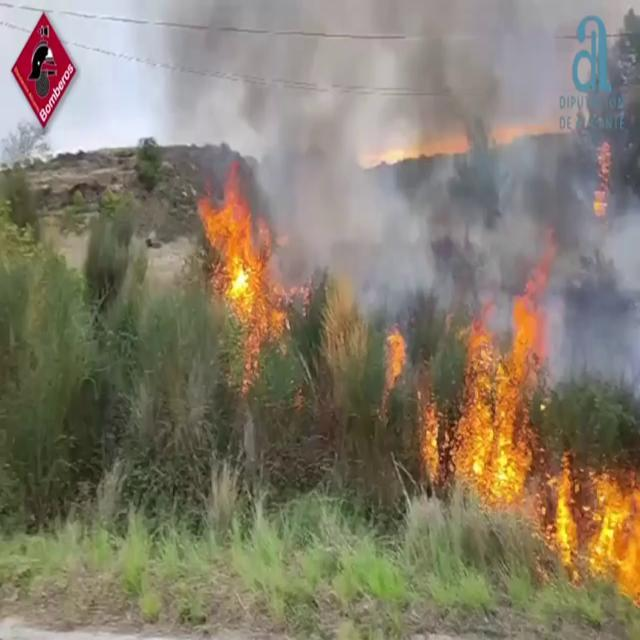Fire: (435, 277, 561, 515), (195, 170, 291, 348), (550, 444, 640, 618)
Smoke: (165, 0, 640, 340)
